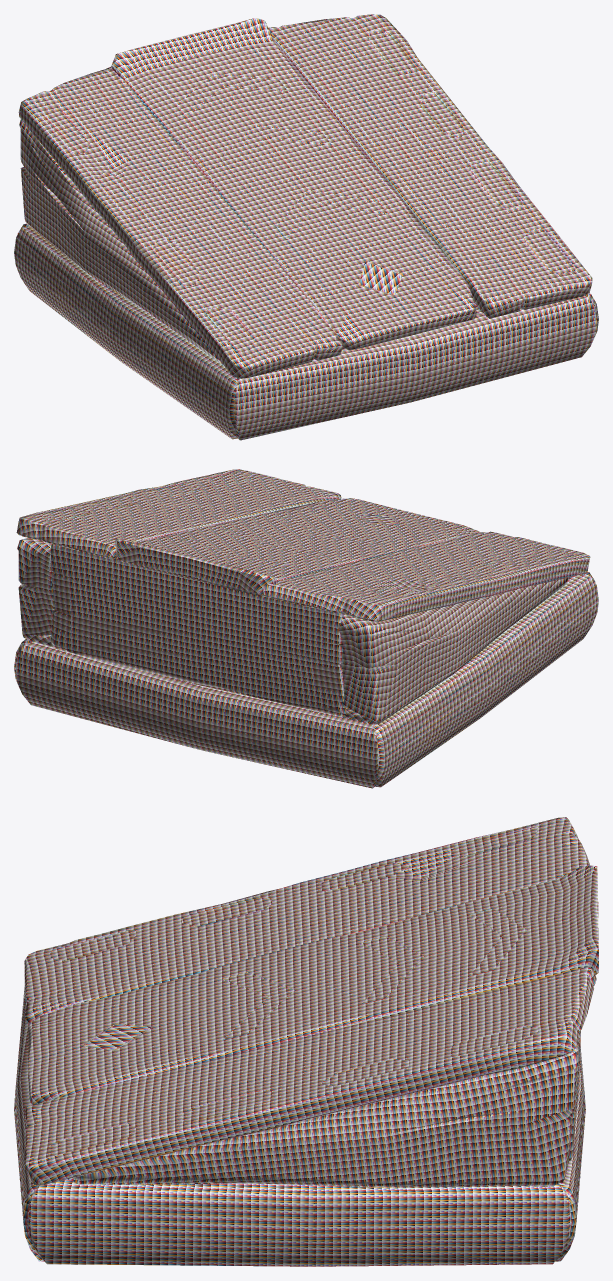
Rendered from Prop_SunlightRamp.glb.
3 renders of one model, top to bottom at view 1: azimuth 30°, elevation 25°; view 2: azimuth 150°, elevation 25°; view 3: azimuth 270°, elevation 25°, orthographic. The views are drawn at different scales.
Parts seen in each view (by area): view 1: Prop_SunlightRamp; view 2: Prop_SunlightRamp; view 3: Prop_SunlightRamp.
Part boxes in pixels (x1,y1,x2,y2): Prop_SunlightRamp: [14, 14, 598, 440]; Prop_SunlightRamp: [14, 469, 598, 788]; Prop_SunlightRamp: [14, 817, 598, 1266].
Bounding box in the file's own units: 66.52 × 34.12 × 71.21.
1 material, 1 textured.
